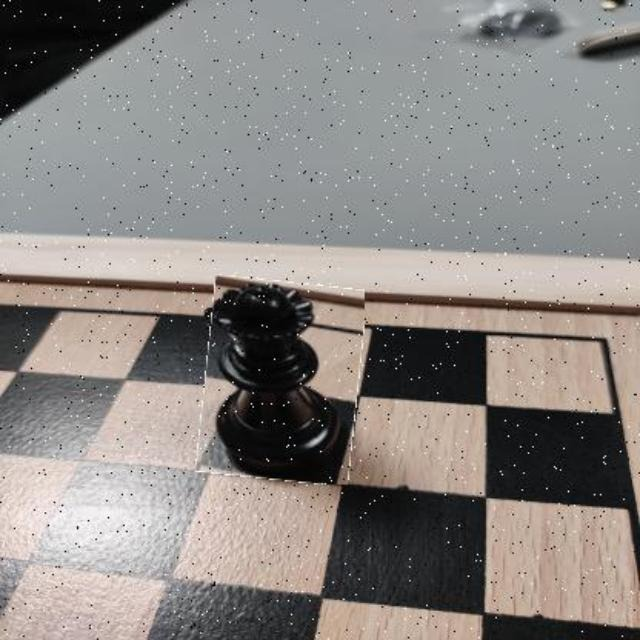black-queen: (200, 280, 361, 483)
